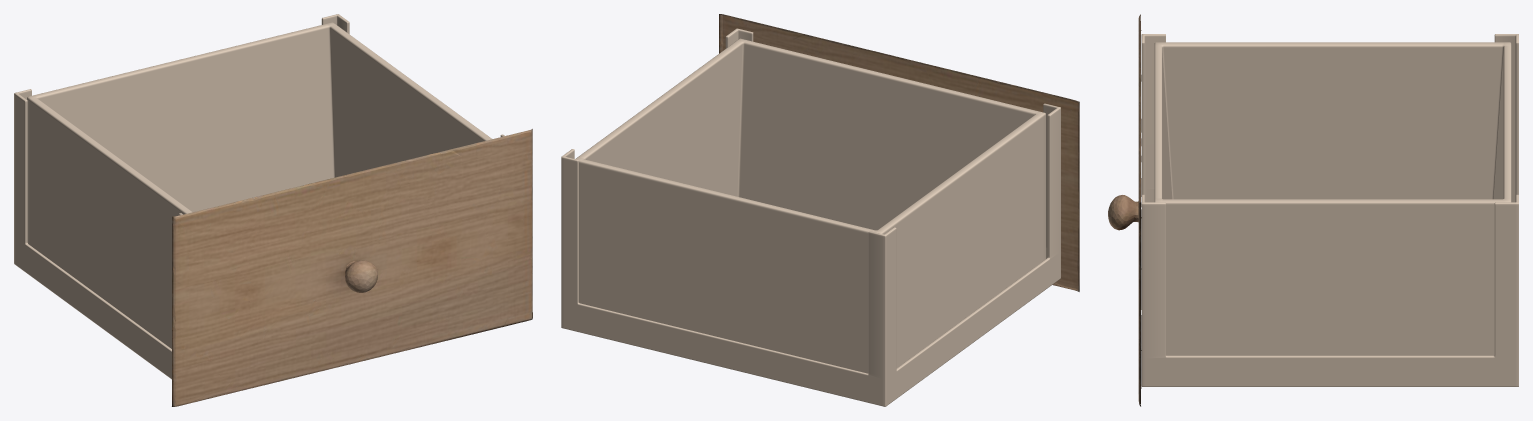
Rendered from drawer.glb.
The picture shows the model from 3 angles, left to right: view 1: azimuth 30°, elevation 25°; view 2: azimuth 150°, elevation 25°; view 3: azimuth 270°, elevation 25°; orthographic projection. The views are drawn at different scales.
Parts seen in each view (by area): view 1: prefab_drawer_body_1, source_front_cap_0; view 2: prefab_drawer_body_1, source_front_cap_0; view 3: prefab_drawer_body_1, source_front_cap_0.
Part boxes in pixels (x1,y1,x2,y2): prefab_drawer_body_1: [14, 14, 504, 379]; source_front_cap_0: [172, 129, 532, 406]; prefab_drawer_body_1: [561, 28, 1060, 406]; source_front_cap_0: [719, 14, 1079, 291]; prefab_drawer_body_1: [1141, 34, 1518, 386]; source_front_cap_0: [1108, 14, 1141, 406].
Size of the model in its own units: 0.4447 by 0.2244 by 0.4092.
Materials: 2 (1 with a texture image).
